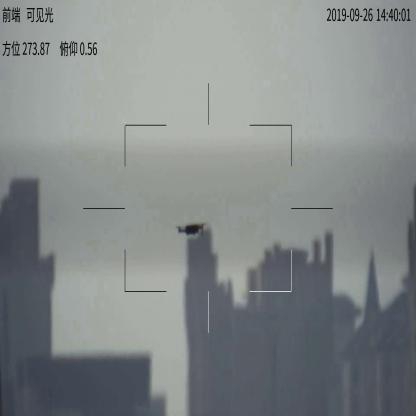uav: (172, 220, 210, 238)
